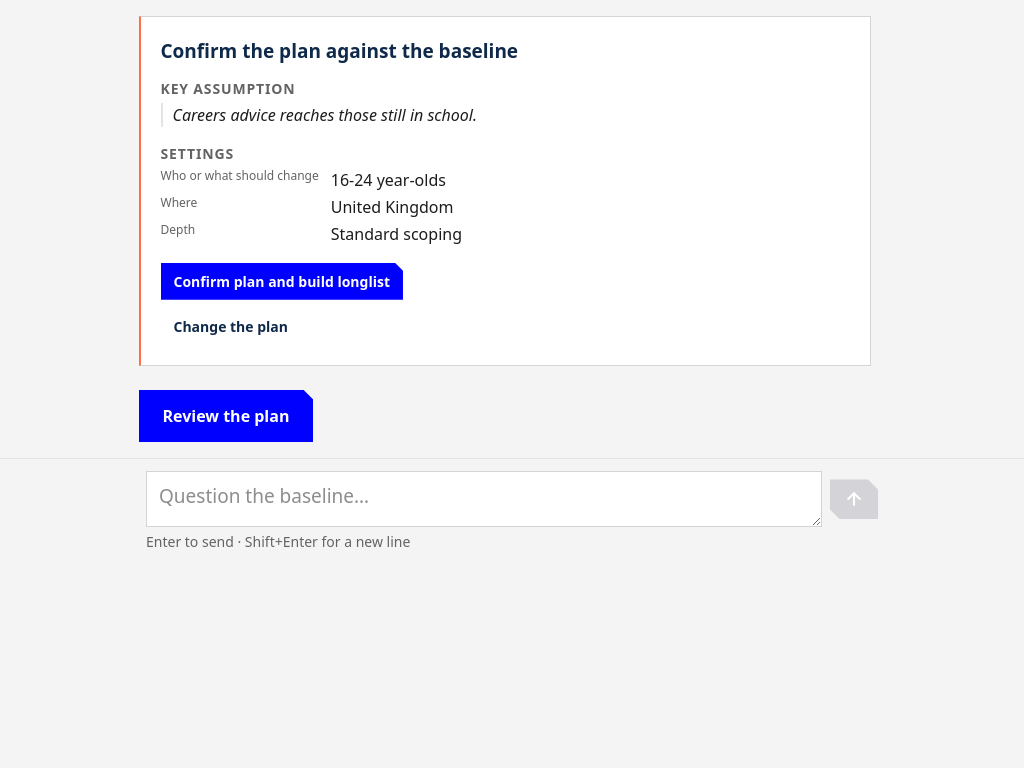
Test: TaskAgentPane — the options-scoping baseline gate › renders an ask-back turn's suggestions as chips at the gate
Type "Does the baseline cover care leavers?" into the text box named "Message the Task Agent".
click(484, 500); type("Does the baseline cover care leavers?")  # box [146,472,822,528]
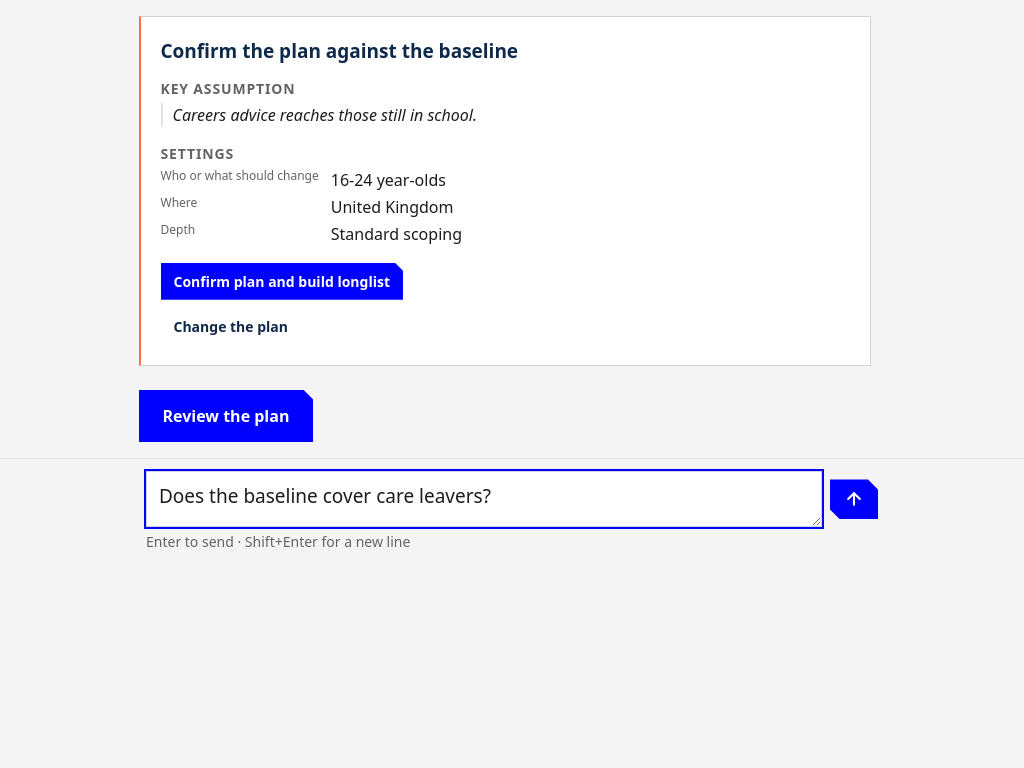
Click the button named "Send".
click(854, 500)  # box [830,480,878,520]
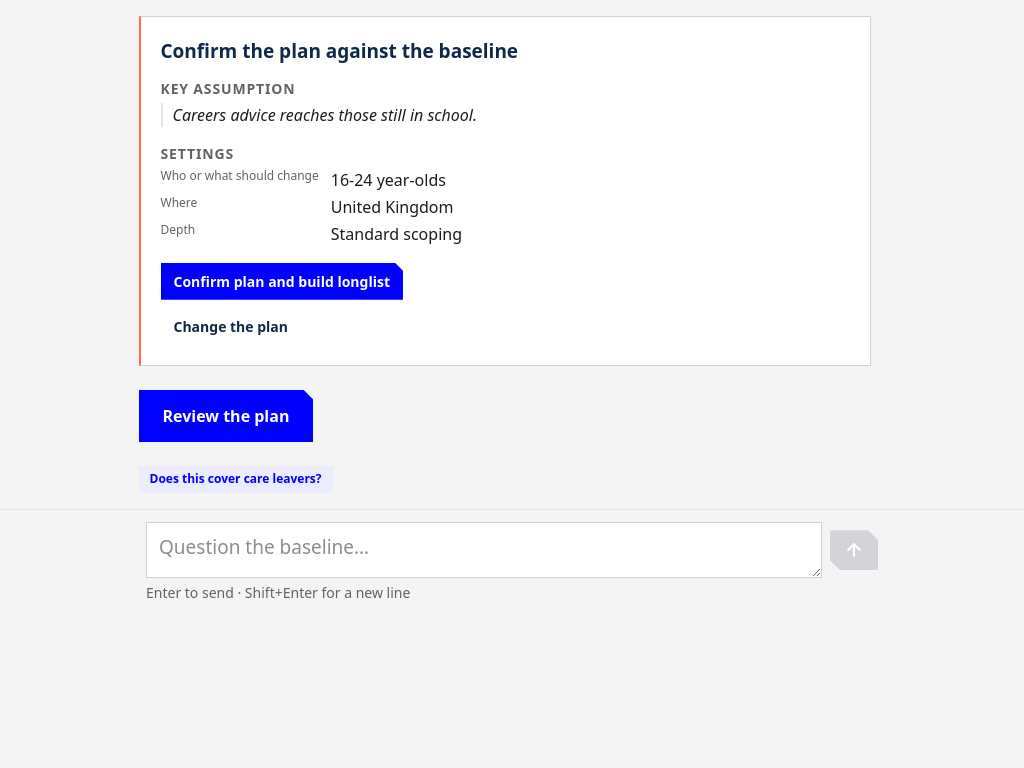
Now the button "Does this cover care leavers?" is shown, box [138,466,333,493]
